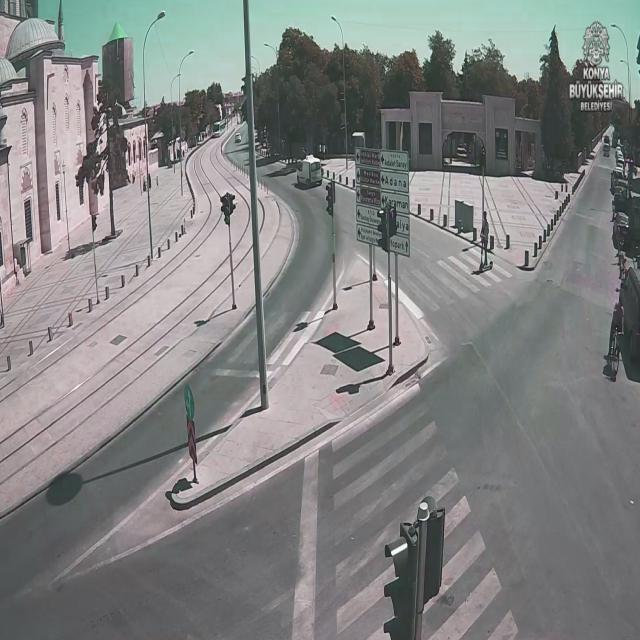Bus: (208, 116, 230, 140)
Car: (232, 131, 244, 145)
Van: (294, 155, 329, 190)
